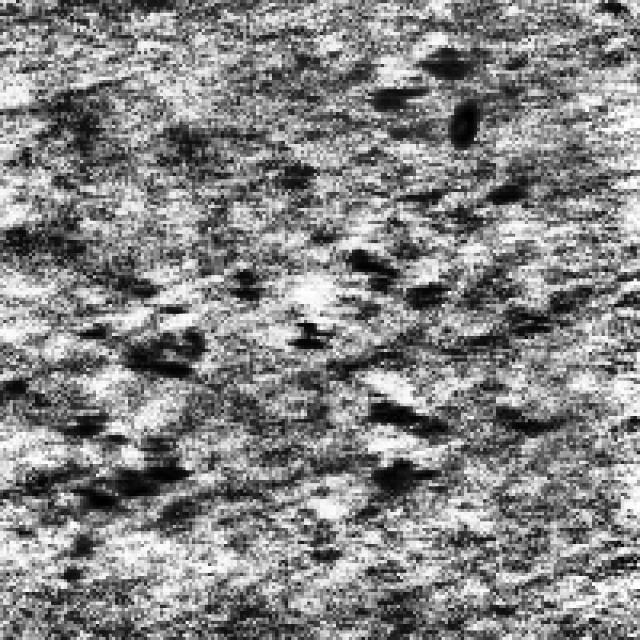Crazing: (262, 218, 496, 524), (41, 224, 218, 557)
